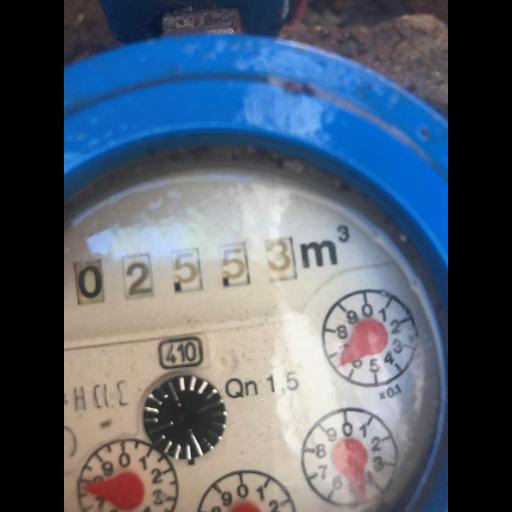0: (70, 260, 108, 307)
2: (119, 252, 157, 301)
3: (261, 236, 299, 283)
5: (168, 247, 207, 294), (216, 241, 252, 289)
border_water_meter_number: (64, 226, 306, 315)
